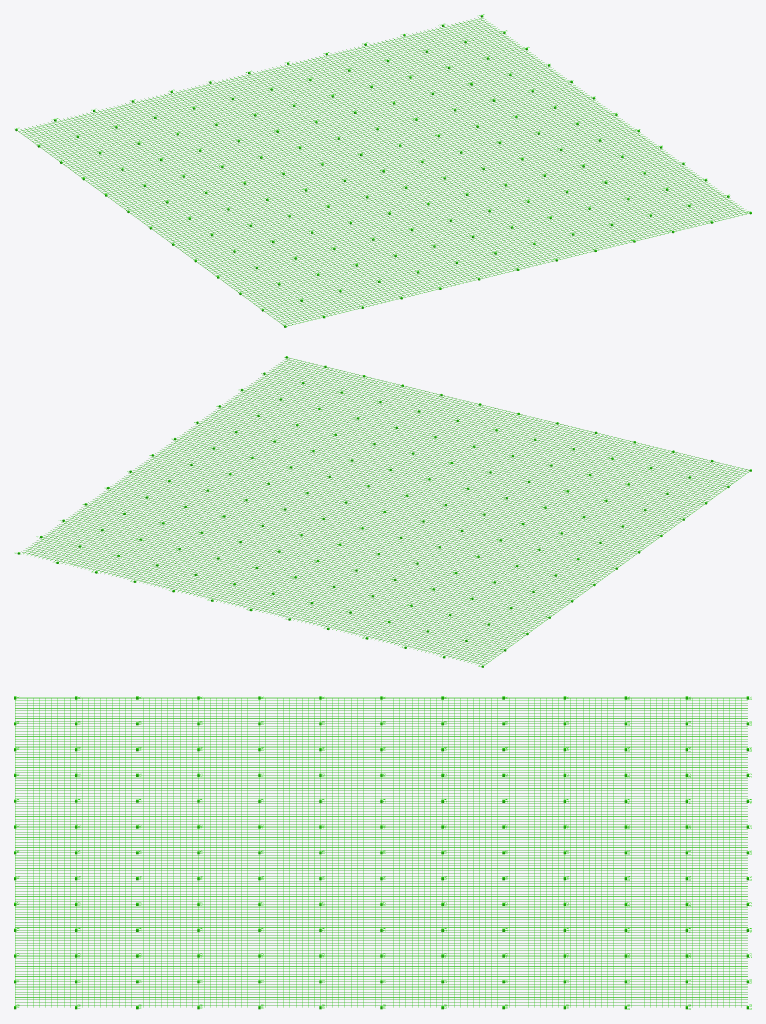
The picture shows the model from 3 angles, top to bottom: view 1: azimuth 30°, elevation 25°; view 2: azimuth 150°, elevation 25°; view 3: azimuth 270°, elevation 25°; orthographic projection. The views are drawn at different scales.
Visible parts, largest first — view 1: X, Y, X-10m; view 2: X, Y, X-10m; view 3: Y, X, X-10m.
Part boxes in pixels (left/top/right/bottom): X: left=19, top=18, right=749, bottom=326; Y: left=17, top=17, right=746, bottom=325; X-10m: left=15, top=15, right=751, bottom=327; X: left=21, top=357, right=749, bottom=664; Y: left=23, top=358, right=749, bottom=665; X-10m: left=17, top=356, right=751, bottom=667; Y: left=15, top=697, right=747, bottom=1005; X: left=15, top=698, right=741, bottom=1007; X-10m: left=14, top=696, right=748, bottom=1009.
Size of the model in its own units: 12134 by 40 by 12087.
